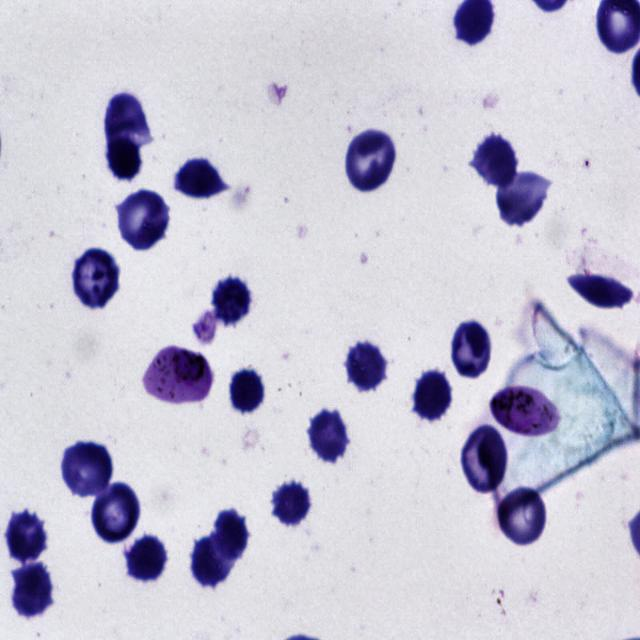difficult: (141, 347, 214, 405), (490, 386, 560, 438)
red blood cell: (345, 125, 399, 197), (116, 189, 170, 253), (90, 482, 142, 545), (461, 425, 508, 494), (72, 247, 122, 310), (62, 441, 112, 502), (495, 489, 547, 545), (497, 172, 544, 230), (451, 321, 494, 379), (105, 90, 152, 143), (474, 136, 520, 188), (11, 564, 55, 618), (308, 409, 350, 465), (345, 340, 388, 393), (6, 508, 48, 562), (568, 274, 634, 308), (212, 507, 250, 564), (413, 367, 452, 422), (190, 538, 229, 592), (270, 478, 312, 528), (174, 158, 226, 198), (208, 278, 252, 324), (229, 366, 265, 415), (125, 540, 167, 581), (108, 137, 140, 179)
